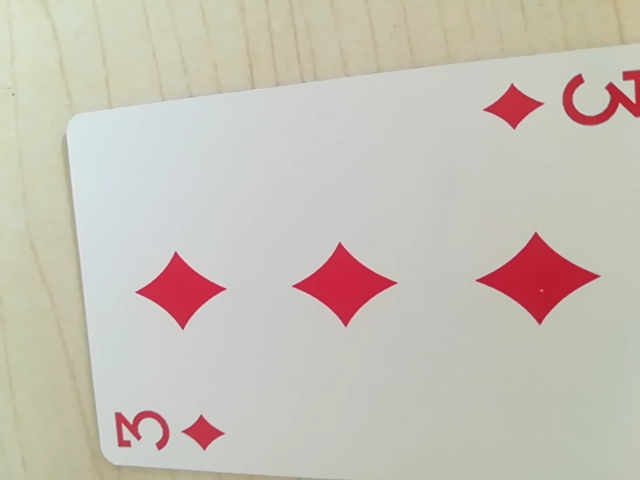fk 3: (483, 61, 640, 136), (108, 398, 233, 462)
